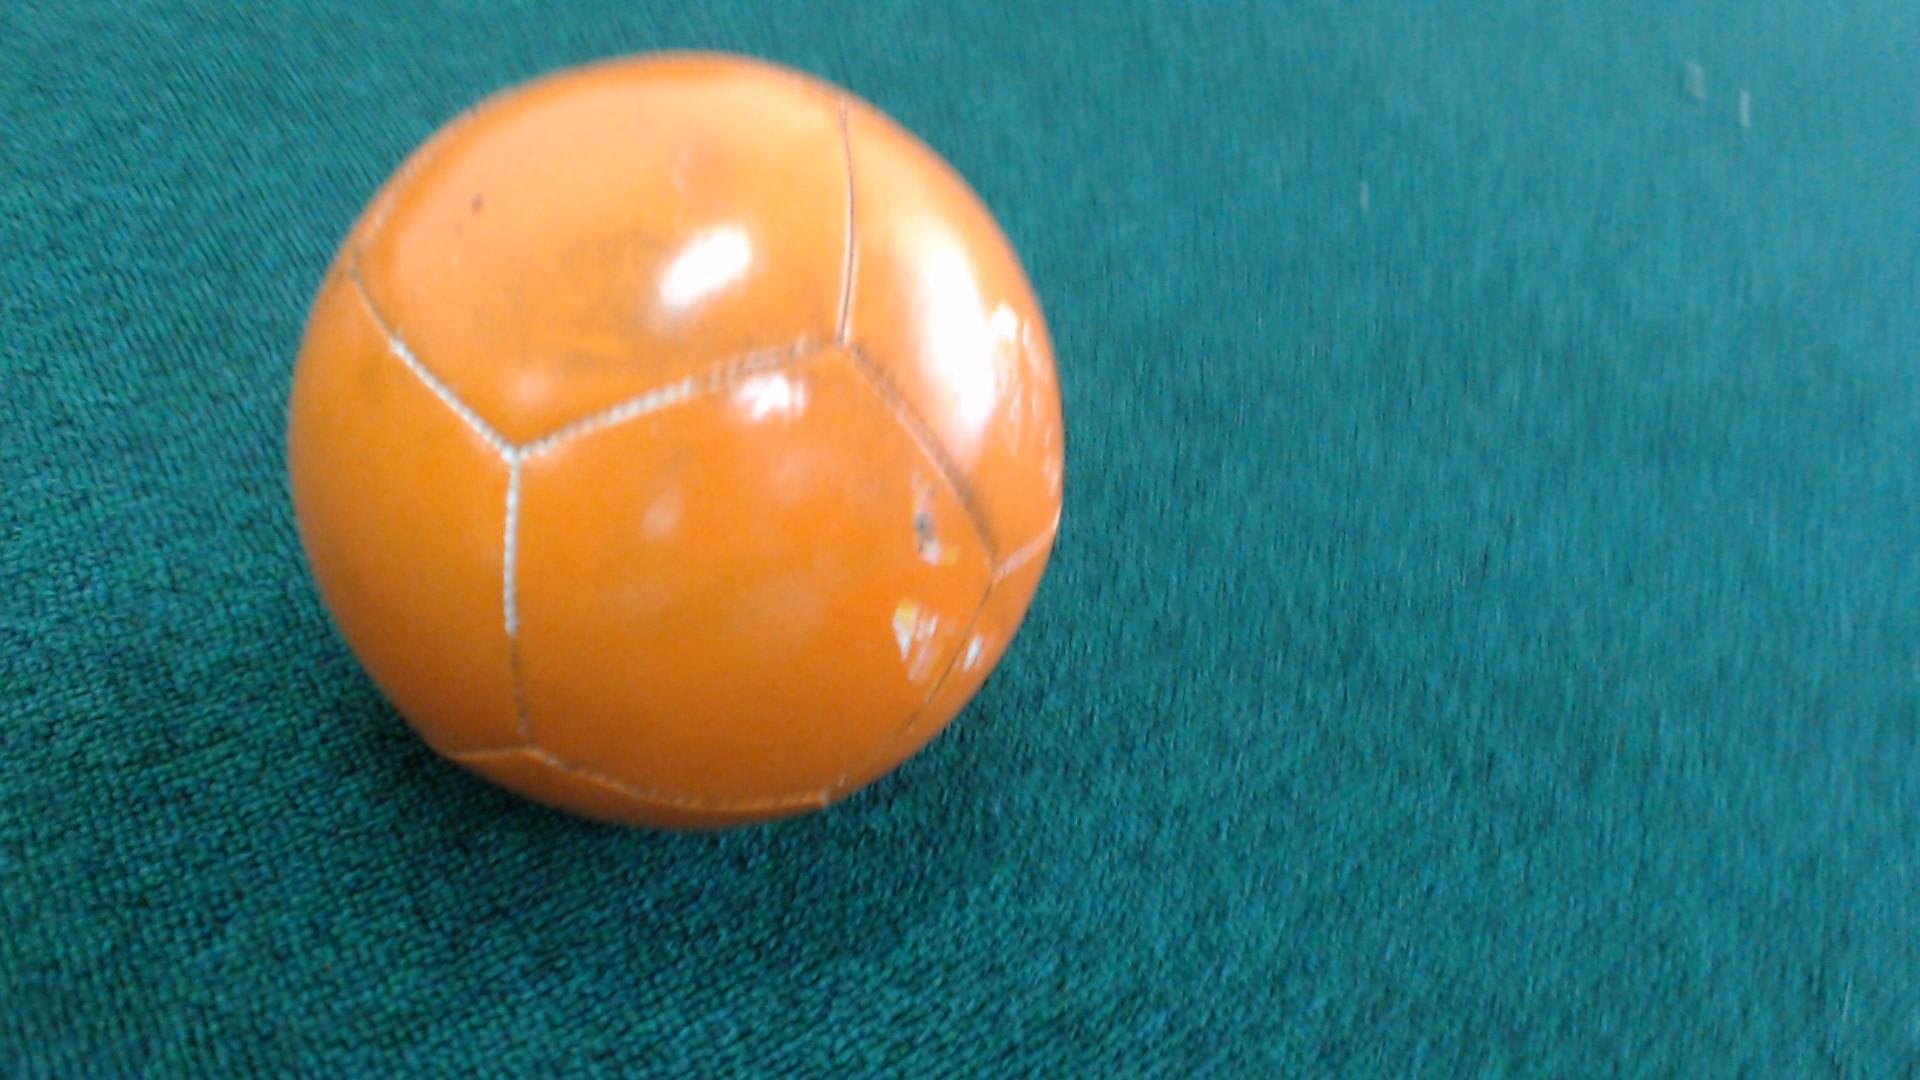bola: (268, 0, 1095, 848)
